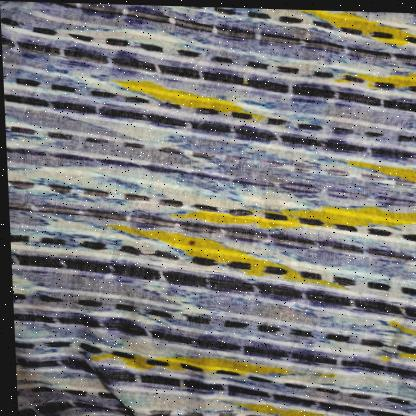spot: (181, 234, 196, 245)
